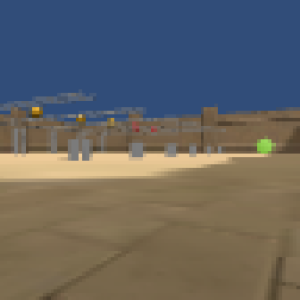badGoal: (129, 120, 144, 133), (150, 123, 159, 134)
goodGoal: (255, 136, 277, 156)
goodGoalMulti: (30, 106, 43, 120), (74, 112, 86, 127), (105, 117, 117, 132)
wall: (69, 136, 93, 163), (12, 125, 28, 156), (129, 139, 146, 156), (49, 126, 59, 153), (164, 141, 177, 157), (101, 128, 106, 152), (189, 143, 197, 156), (218, 146, 224, 156), (206, 146, 211, 155)
